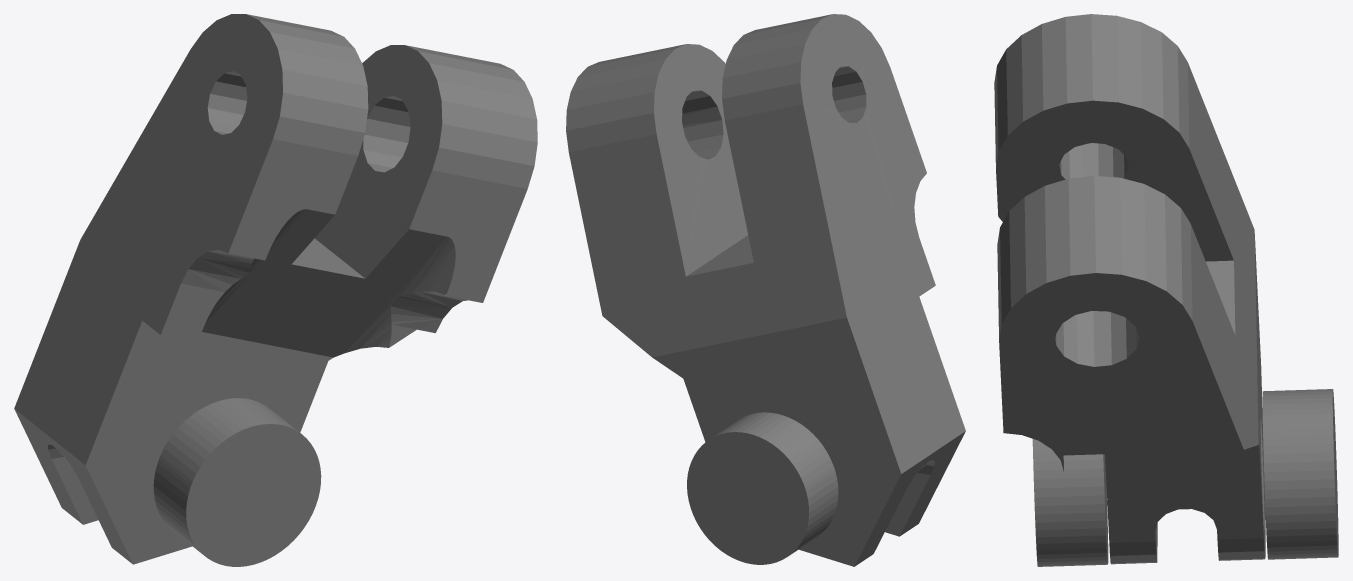
The model's file is rh_thumb_metacarpals_base1_vis.obj.
3 renders of one model, left to right at view 1: azimuth 30°, elevation 25°; view 2: azimuth 150°, elevation 25°; view 3: azimuth 270°, elevation 25°, orthographic. The views are drawn at different scales.
Parts seen in each view (by area): view 1: rh_thumb_metacarpals_base1; view 2: rh_thumb_metacarpals_base1; view 3: rh_thumb_metacarpals_base1.
Part boxes in pixels (x1=…): rh_thumb_metacarpals_base1: x1=14, y1=14, x2=537, y2=566; rh_thumb_metacarpals_base1: x1=566, y1=14, x2=965, y2=566; rh_thumb_metacarpals_base1: x1=994, y1=14, x2=1338, y2=566.
Size of the model in its own units: 0.0188 by 0.0222 by 0.0122.
Materials: 1 (1 with a texture image).
